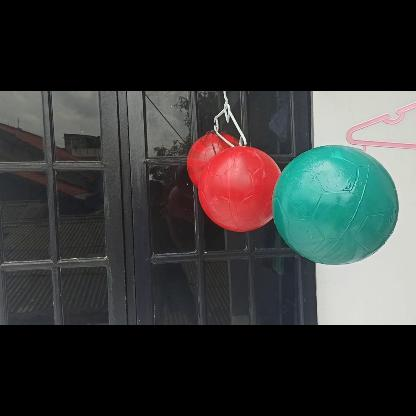green_ball: (271, 142, 397, 268)
